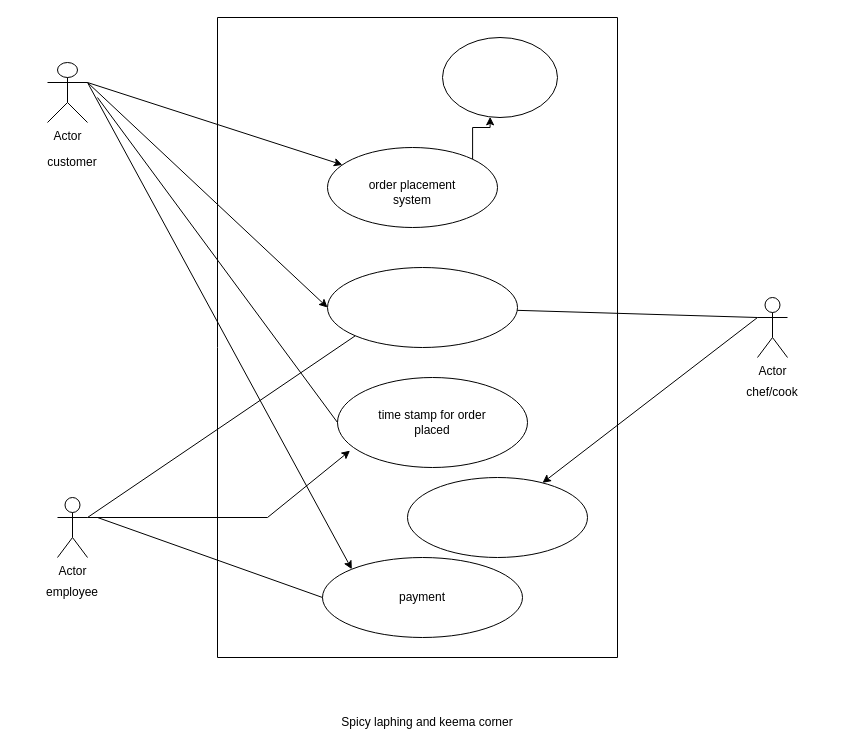
The diagram is 849 pixels wide and 755 high, and some of its shapes have lost their labels. The shapes that lost their labels are listed below. From the top down, each one's centre as x and y in pixels, then its label:
the point at 500,77: log in/sign in app
the point at 422,307: order customization
the point at 497,517: time stamp fotr odered out
